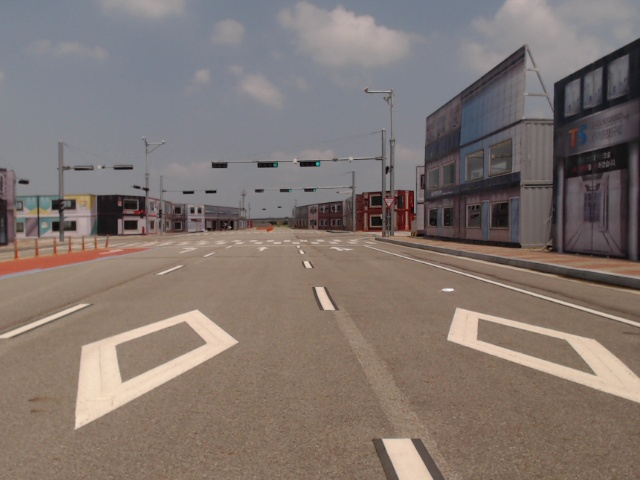straight_green_4: (256, 162, 278, 169), (300, 160, 321, 166)
